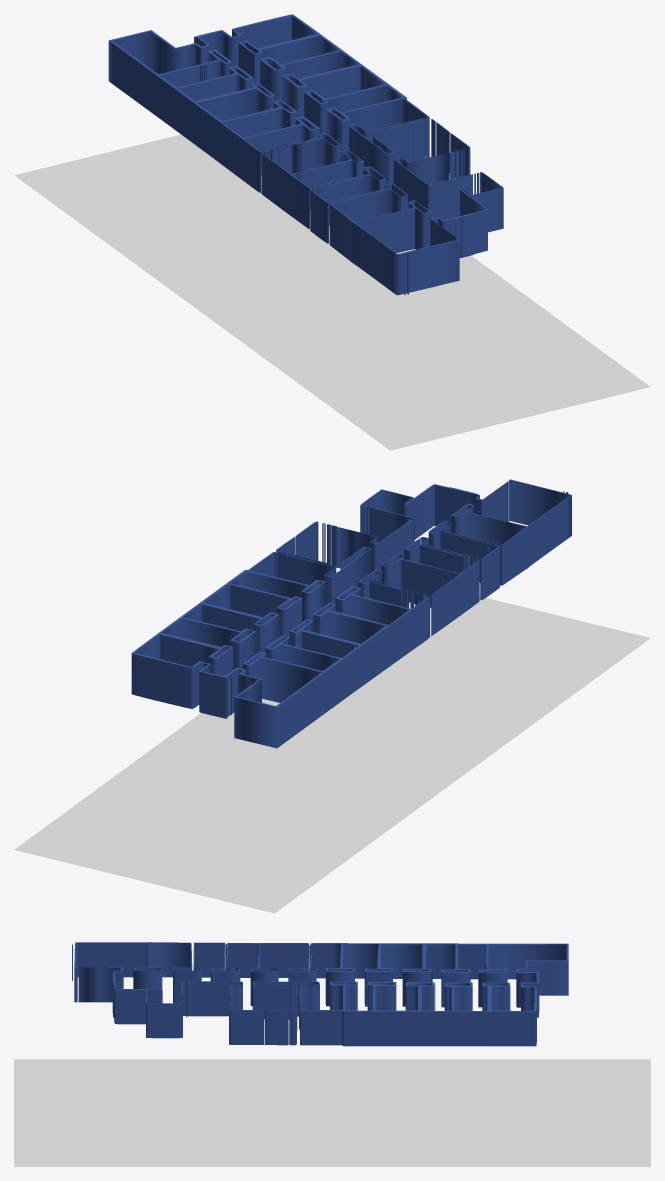
3 views of the same model, one above another, from view 1: azimuth 30°, elevation 25°; view 2: azimuth 150°, elevation 25°; view 3: azimuth 270°, elevation 25° (orthographic). The views are drawn at different scales.
Visible parts, largest first — view 1: Plane, Curve; view 2: Plane, Curve; view 3: Plane, Curve.
Boxes of the visible parts, bbox=[...] form: Plane: bbox=[14, 134, 650, 450]; Curve: bbox=[108, 14, 503, 295]; Plane: bbox=[14, 596, 650, 913]; Curve: bbox=[131, 479, 571, 748]; Plane: bbox=[14, 1059, 650, 1166]; Curve: bbox=[72, 942, 568, 1046].
Bounding box in the file's own units: 20 × 50 × 11.67.
